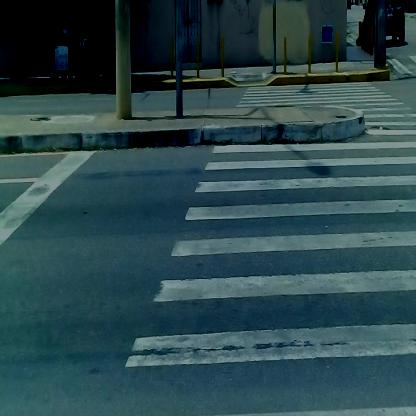crosswalk: (193, 86, 416, 416)
